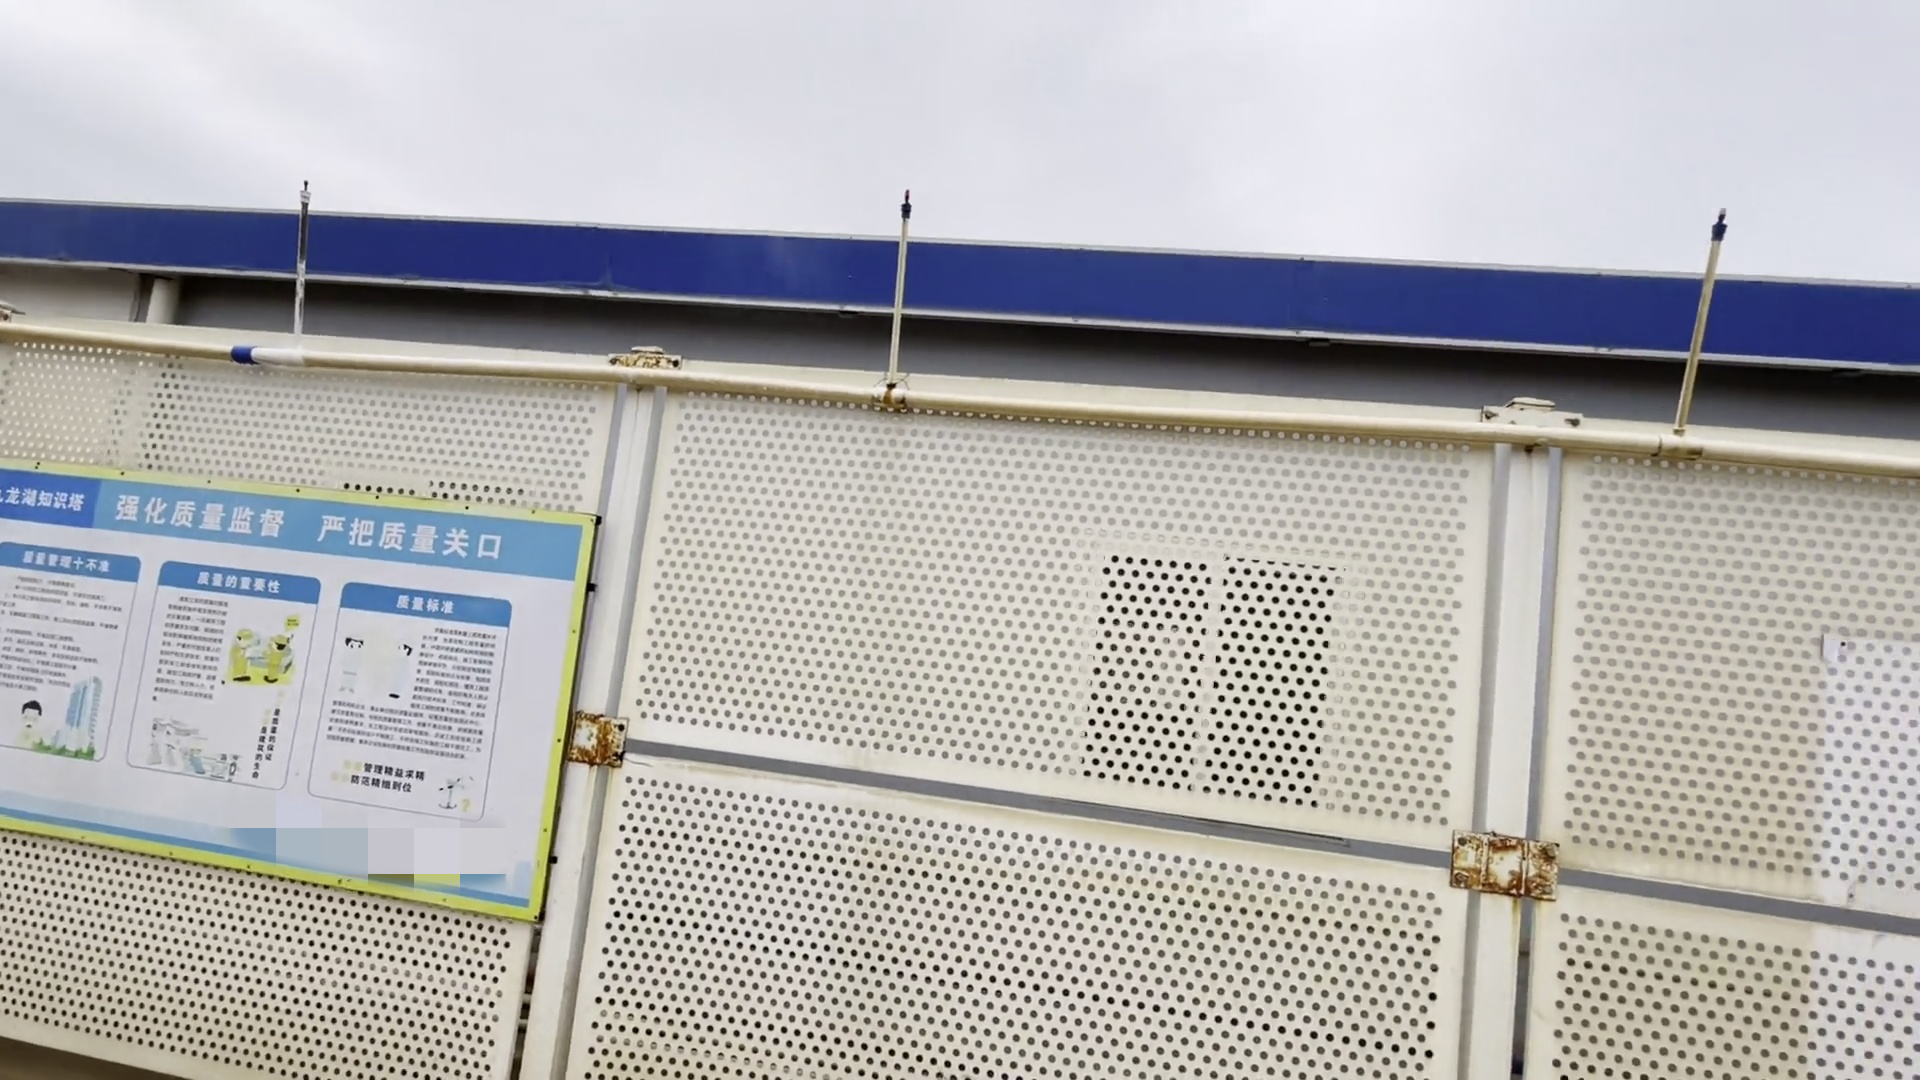slogan: (4, 459, 582, 940)
